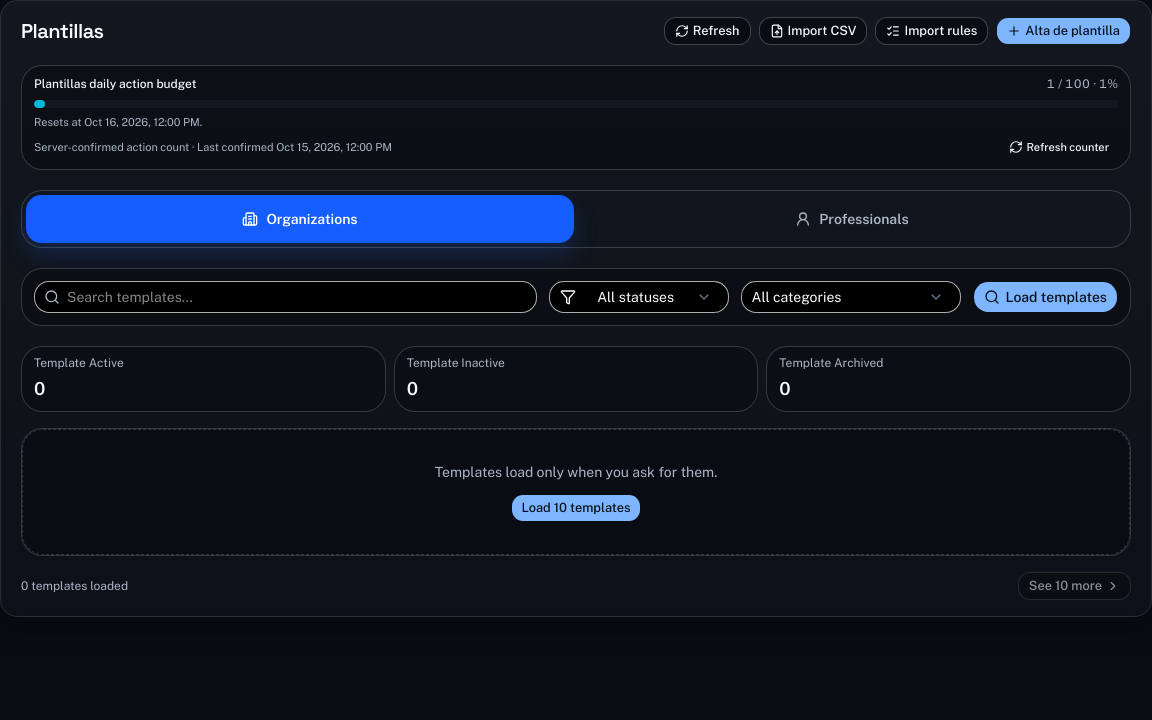
Test: PartnershipCrmTemplateBrowser › fails closed when a later action cannot verify quota usage until an explicit retry
The image size is (1152, 720).
What coordinates should you click on to do the following:
click the button "Load 10 templates"
I would click on:
 (576, 508)
Its box is [510,494,642,522].
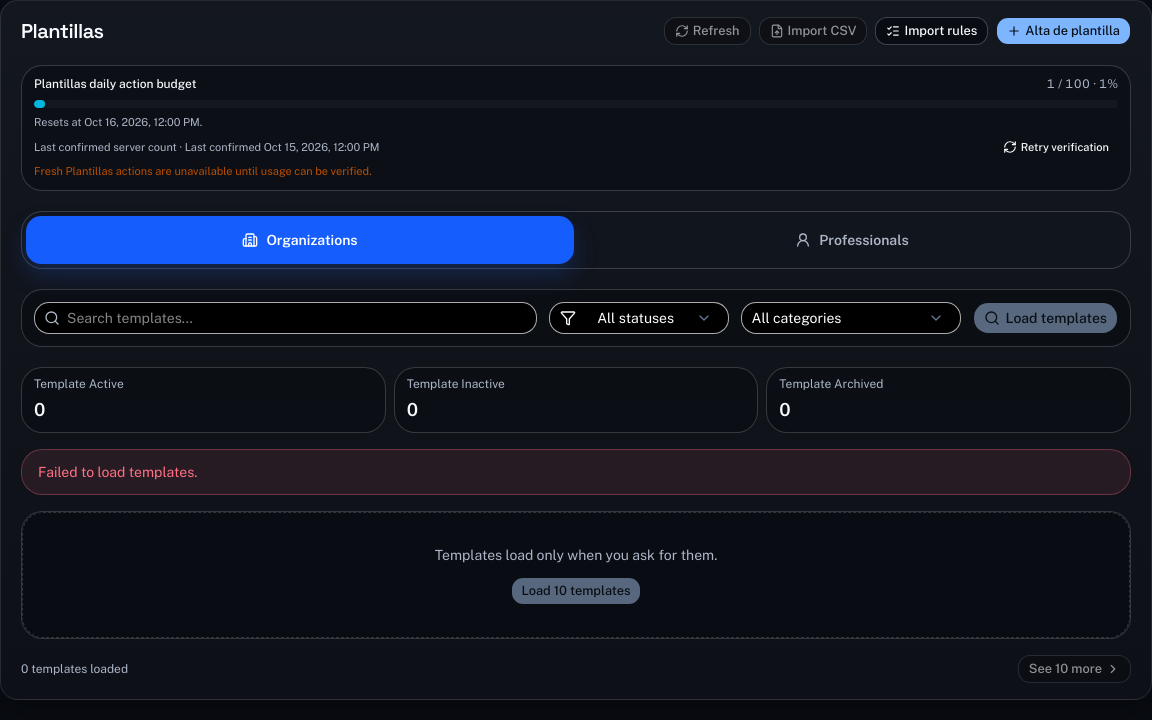
Expected: the button "Load 10 templates" is disabled, [510,577,642,605]
Expected: the button "Refresh" is disabled, [664,17,751,45]
Expected: the button "Import CSV" is disabled, [758,17,867,45]
What coordinates should you click on to do the following:
click the button "Retry verification"
I would click on:
 (1056, 147)
Its box is [994,135,1118,159].
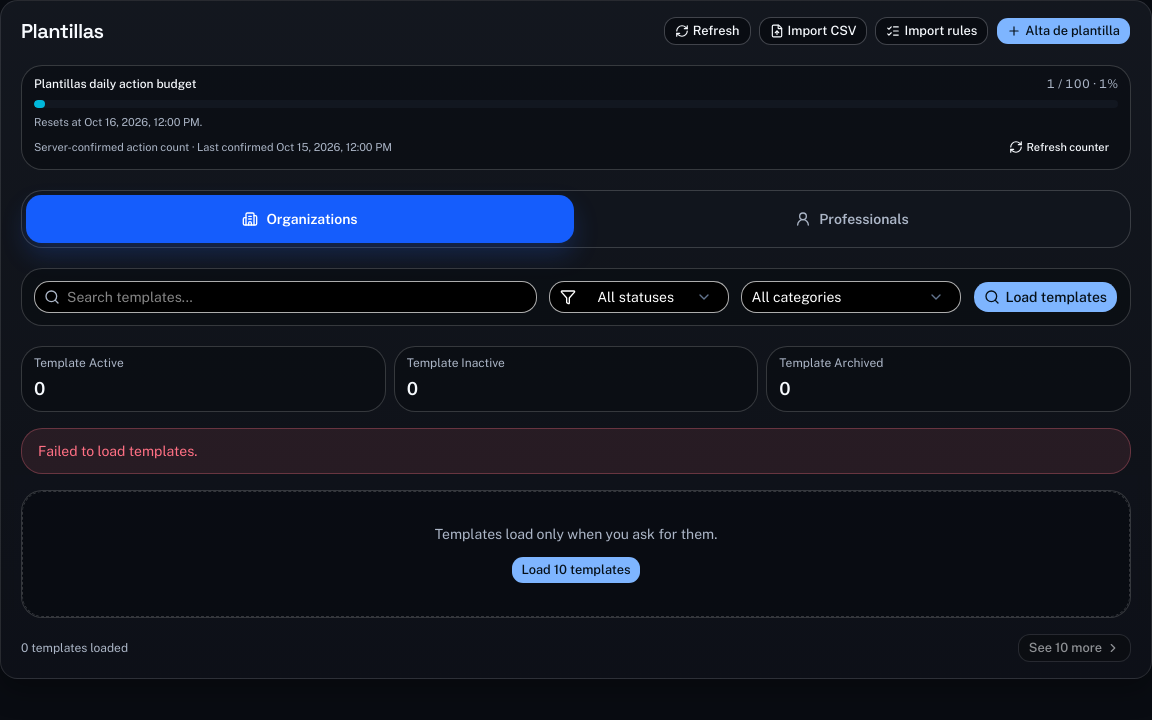
Expected: the button "Load 10 templates" is enabled, [510,556,642,584]
